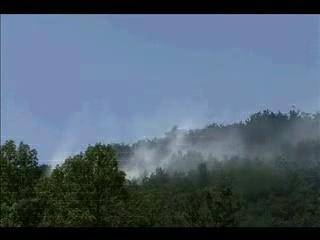smoke: (114, 110, 318, 183), (44, 143, 68, 176)
